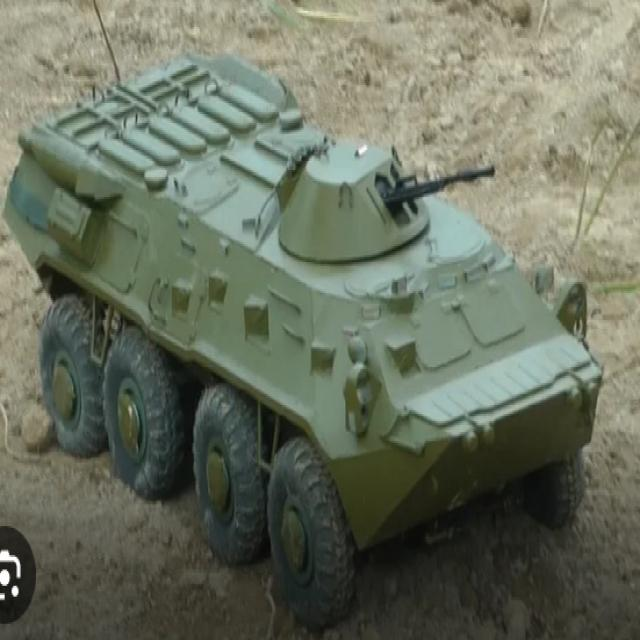MIL_APC: (13, 28, 632, 614)
